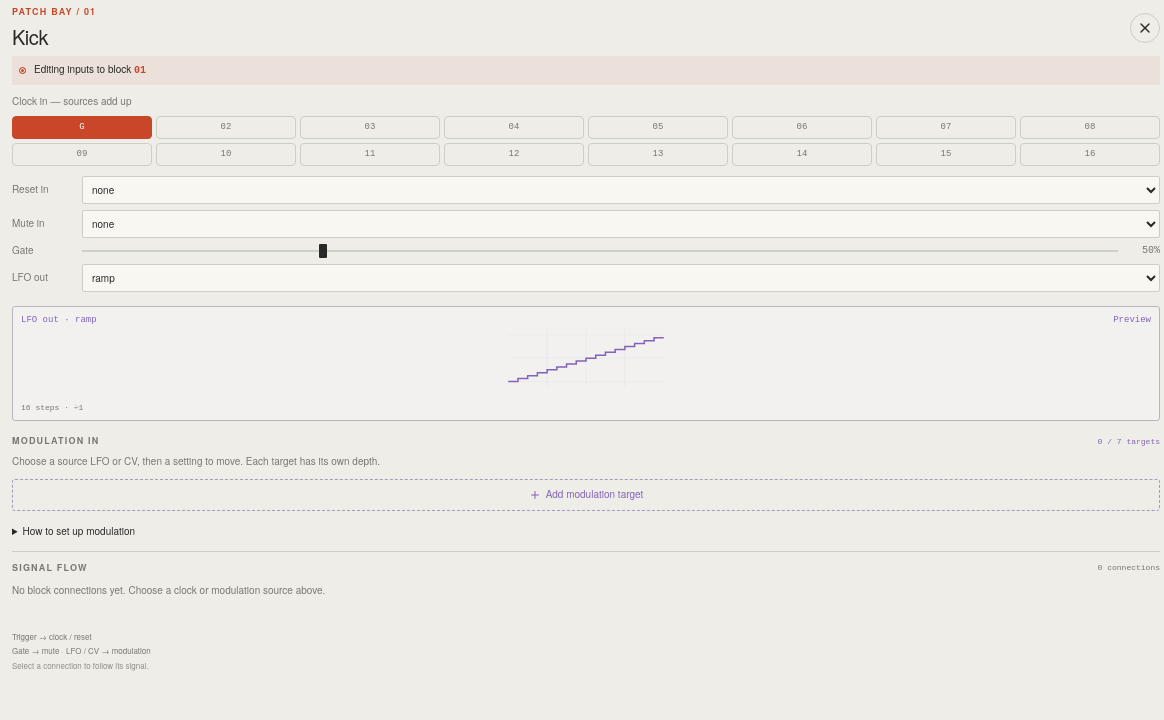
adds independent targets, edits depths, preserves keyboard focus, and removes one route
This screenshot has width=1164, height=720.
Click the button "Add modulation target" at (586, 495), box [12,479,1160,511]
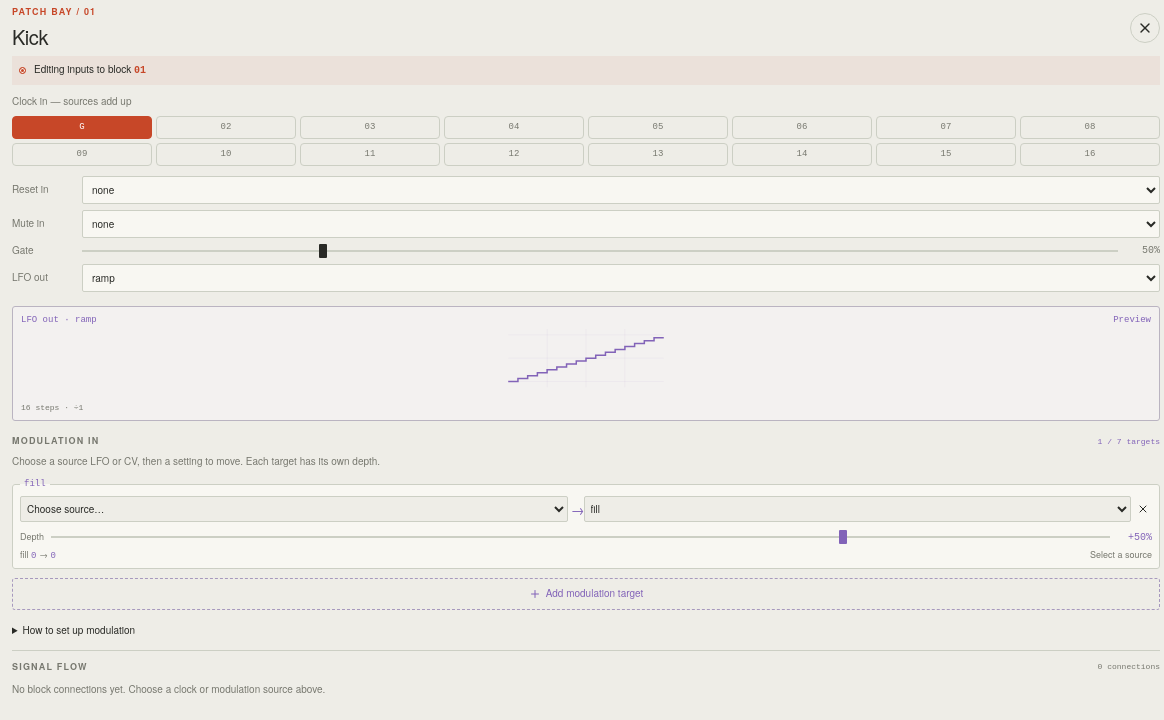
Select "13 Modulator" in the dropdown named "Modulation source for fill" at (294, 509), box [20,496,568,522]
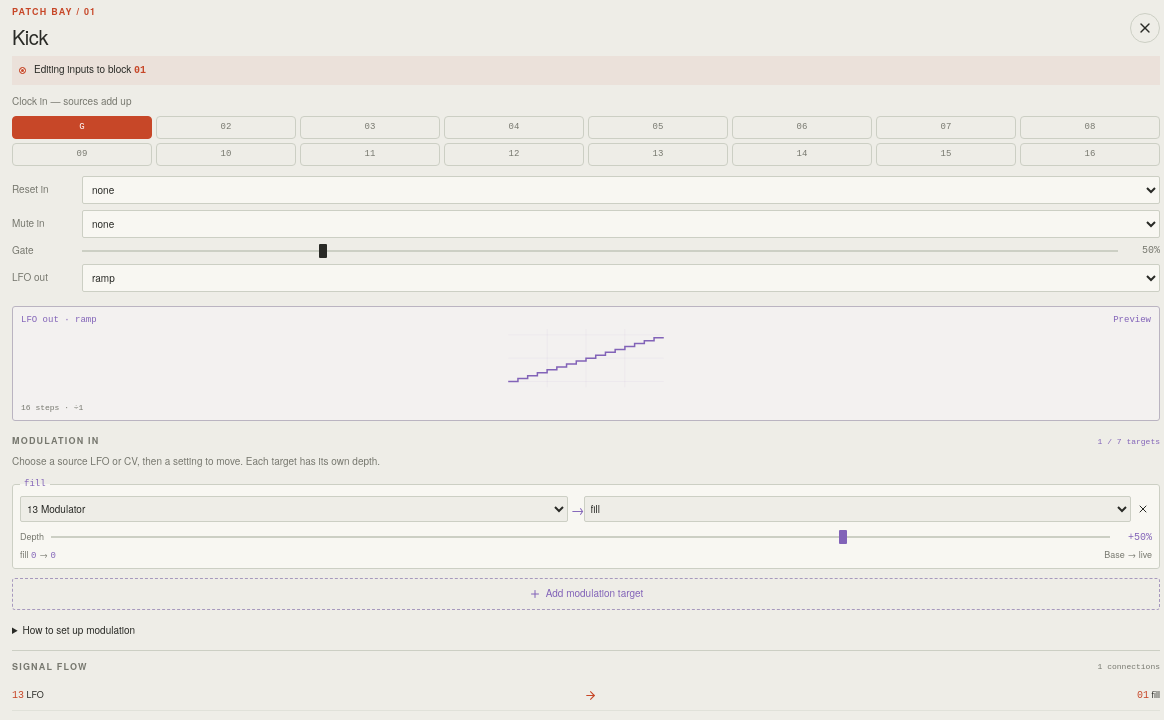
Set the slider named "Modulation amount for fill" to "-65" at (241, 537), box [51,530,1110,544]
Click the button "Add modulation target" at (586, 594), box [12,578,1160,610]
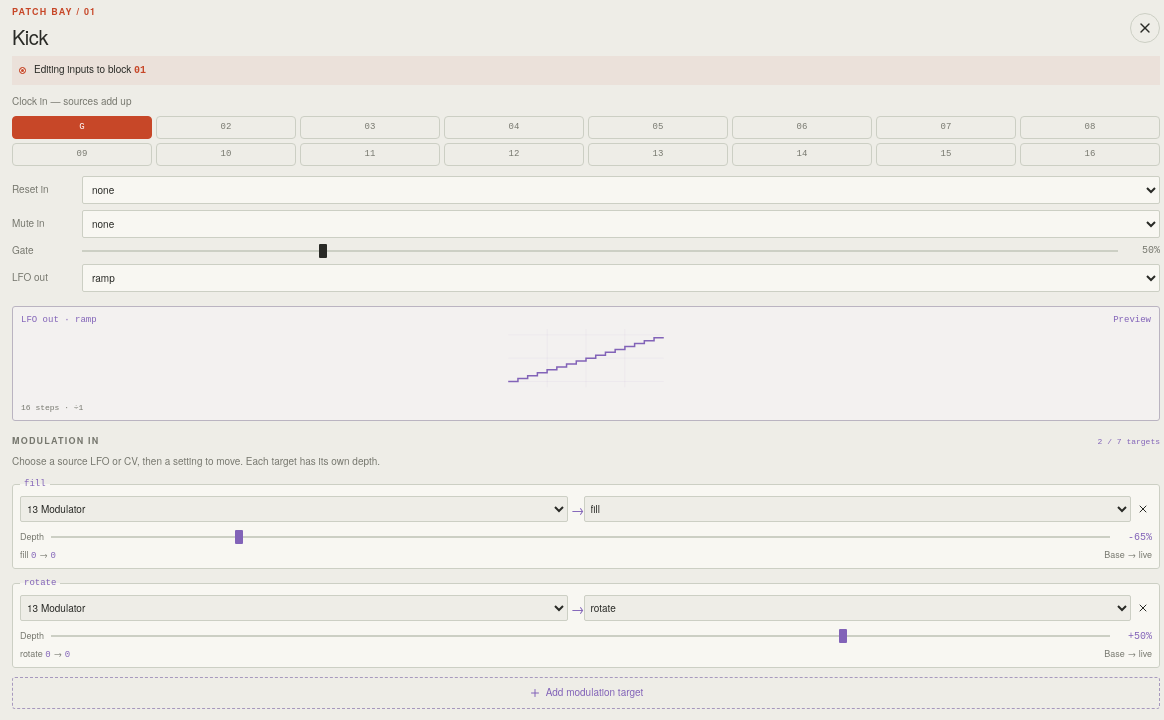
Check: the dropdown named "Modulation source for rotate" shows "13 Modulator"
Select "14 Modulator" in the dropdown named "Modulation source for rotate" at (294, 608), box [20,595,568,621]
Select "chance" in the dropdown named "Modulation destination for rotate" at (857, 608), box [584,595,1131,621]
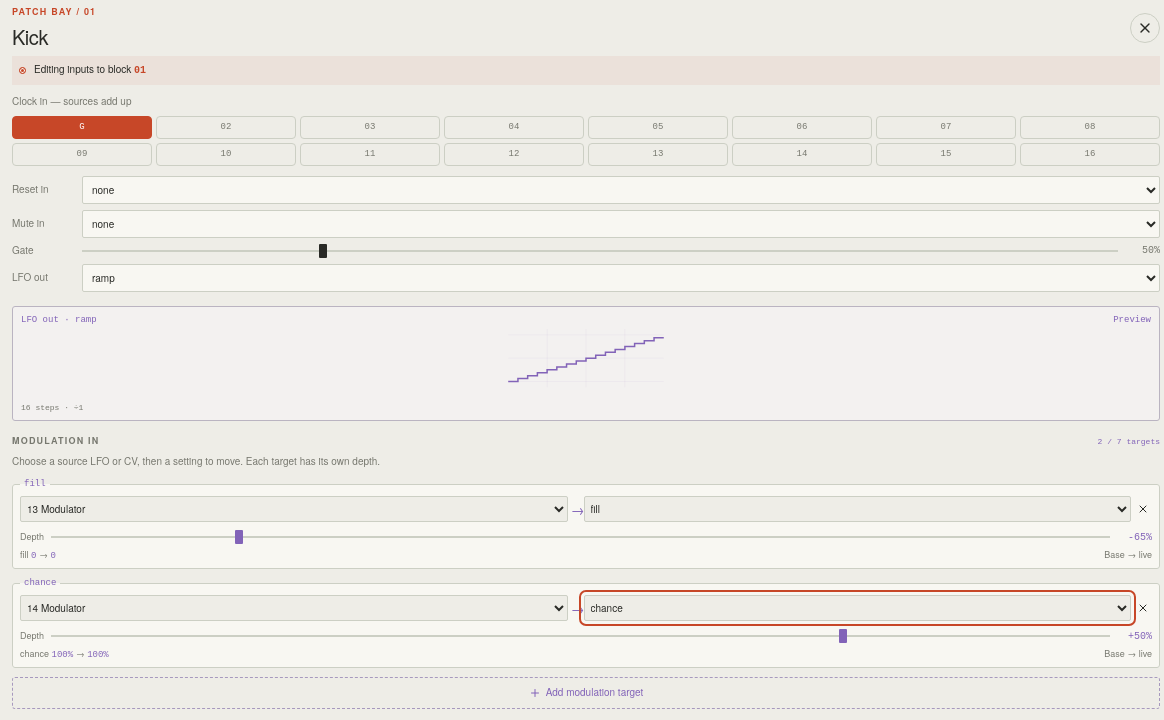
Check: the dropdown named "Modulation source for chance" shows "14 Modulator", box [20,595,568,621]
Click the button named "Remove fill modulation" at (1143, 509), box [1134,500,1152,518]
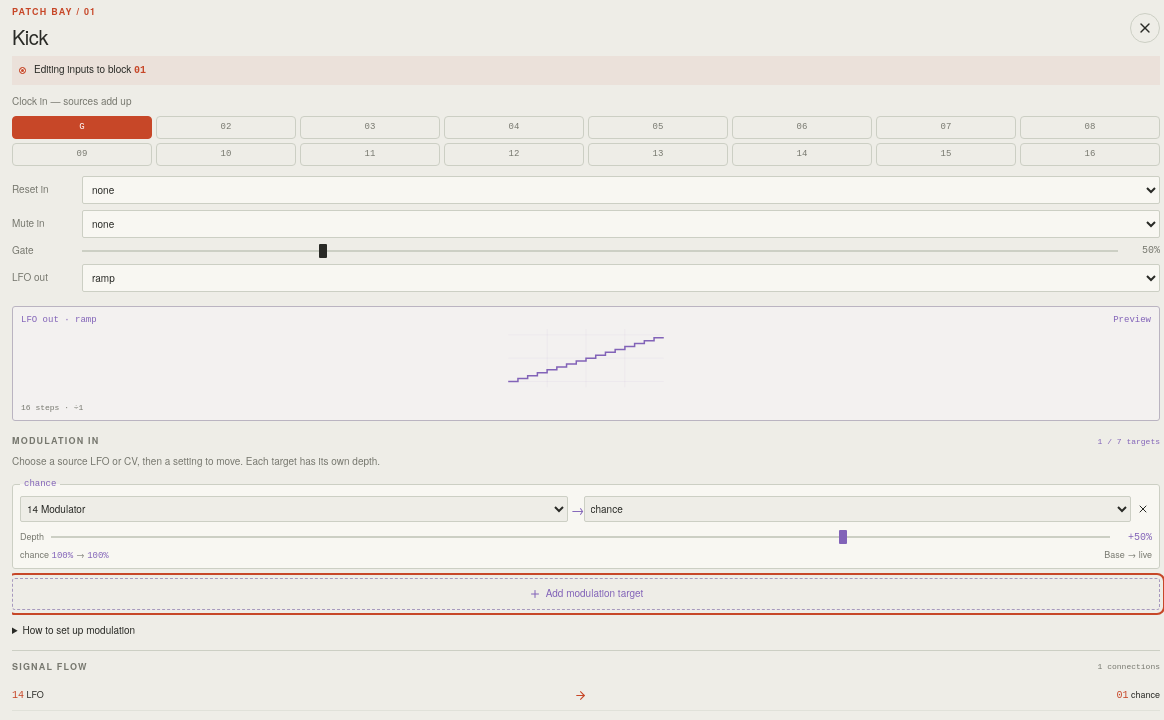
Check: the heading "How to set up modulation" is shown, box [23,623,135,637]
Check: the slider named "Modulation amount for chance" holds "50", box [51,530,1110,544]
Select "triangle" in the dropdown named "LFO waveform" at (621, 278), box [82,264,1160,292]
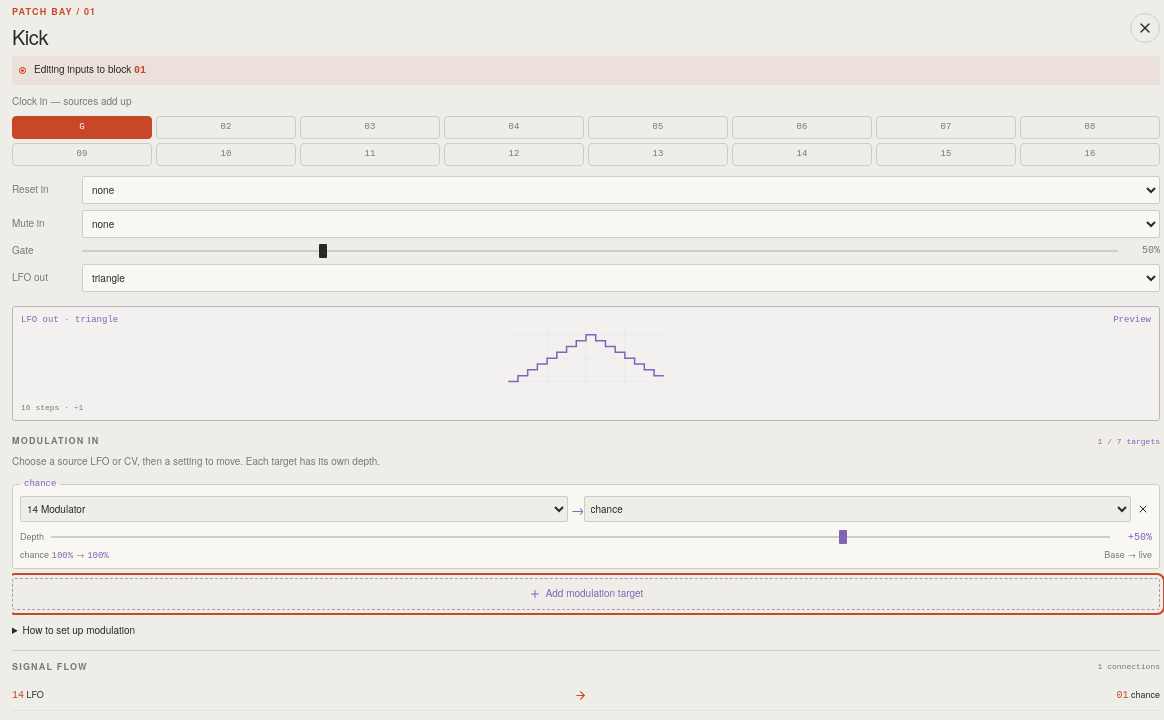
Check: the picture named "triangle modulation waveform" is shown, box [21,329,1151,399]
